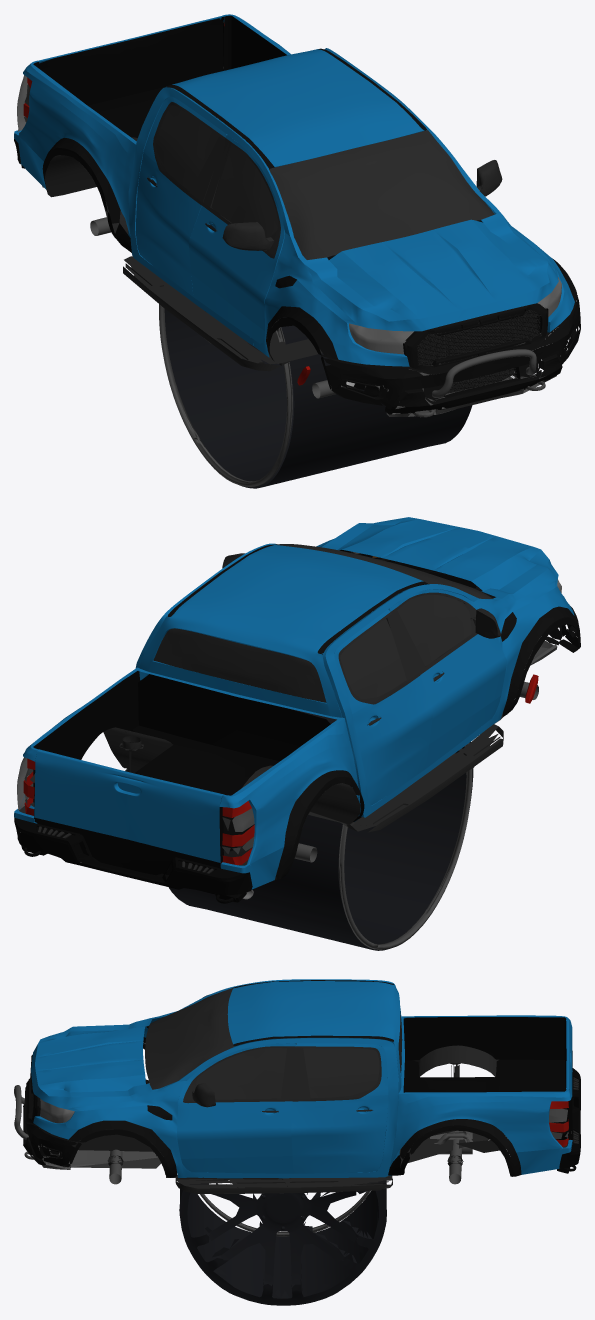
The model's file is trekker.glb.
3 views of the same model, one above another, from view 1: azimuth 30°, elevation 25°; view 2: azimuth 150°, elevation 25°; view 3: azimuth 270°, elevation 25° (orthographic). The views are drawn at different scales.
Parts seen in each view (by area): view 1: paint:0, rim:18, trim:3, glass:4, trim:5, trim:1, screen:4, trim:15, rim:7, trim:7, head_r:10, trim:16; view 2: paint:0, trim:5, rim:18, glass:4, trim:1, trim:3, rim:7, trim:6, trim:2; view 3: paint:0, rim:18, trim:5, glass:4, trim:1, trim:3, screen:4, trim:16, trim:7, trim:2, rim:7.
Boxes of the visible parts, box(x1,y1,x2,y2) form: paint:0: box(14, 14, 574, 366); rim:18: box(164, 254, 472, 488); trim:3: box(42, 48, 580, 414); glass:4: box(156, 88, 494, 259); trim:5: box(14, 15, 286, 252); trim:1: box(19, 22, 523, 408); screen:4: box(284, 161, 483, 247); trim:15: box(417, 310, 541, 394); rim:7: box(159, 304, 292, 487); trim:7: box(90, 217, 545, 417); head_r:10: box(350, 330, 410, 354); trim:16: box(365, 372, 556, 416); paint:0: box(14, 517, 574, 889); trim:5: box(14, 671, 364, 903); rim:18: box(169, 708, 473, 950); glass:4: box(153, 544, 492, 702); trim:1: box(19, 553, 554, 873); trim:3: box(86, 545, 580, 879); rim:7: box(338, 743, 472, 949); trim:6: box(23, 674, 538, 865); trim:2: box(24, 768, 254, 854); paint:0: box(31, 979, 572, 1178); rim:18: box(179, 1180, 386, 1305); trim:5: box(153, 1017, 580, 1175); glass:4: box(145, 988, 402, 1103); trim:1: box(49, 995, 578, 1193); trim:3: box(23, 980, 556, 1177); screen:4: box(145, 1013, 210, 1074); trim:16: box(38, 1144, 161, 1169); trim:7: box(14, 1085, 462, 1184); trim:2: box(160, 1108, 568, 1154); rim:7: box(200, 1190, 370, 1236).
Bounding box in the file's own units: 2.31 × 2.77 × 5.37.
